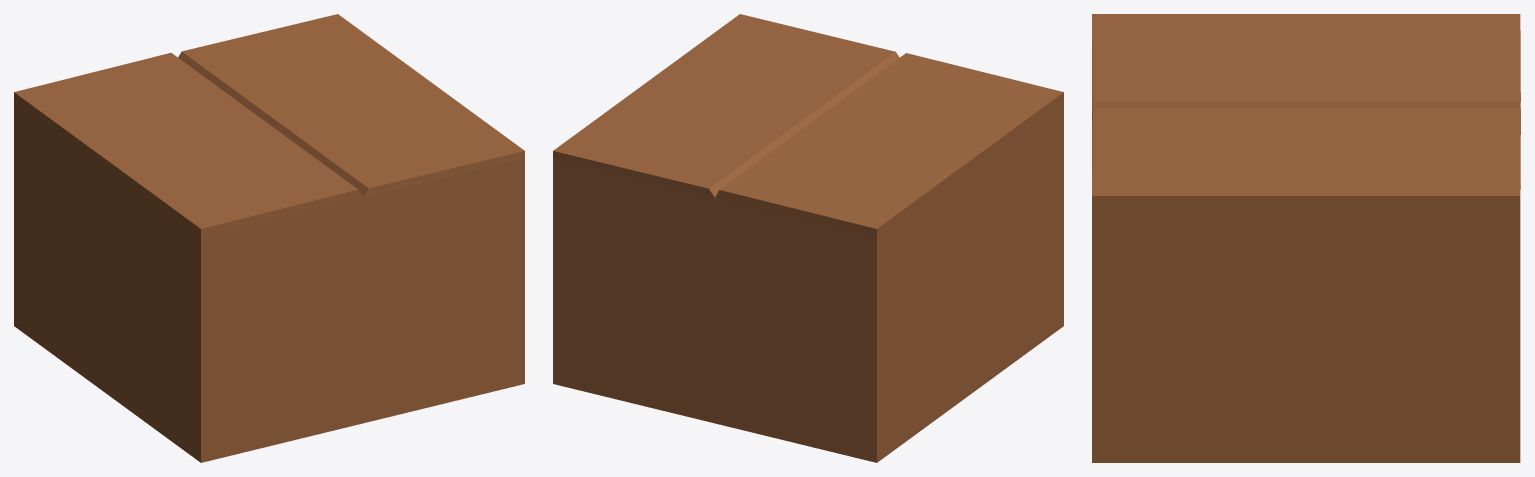
The model's file is CardBoard2.fbx.
3 views of the same model, side by side, from view 1: azimuth 30°, elevation 25°; view 2: azimuth 150°, elevation 25°; view 3: azimuth 270°, elevation 25° (orthographic). The views are drawn at different scales.
Visible parts, largest first — view 1: Cube.005; view 2: Cube.005; view 3: Cube.005.
Boxes of the visible parts, bbox=[...] form: Cube.005: bbox=[14, 14, 524, 462]; Cube.005: bbox=[553, 14, 1063, 462]; Cube.005: bbox=[1092, 14, 1520, 462].
Size of the model in its own units: 92.09 by 63.8 by 92.22.
